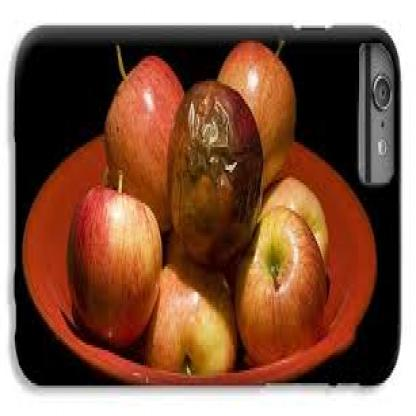apple: (63, 180, 162, 337), (95, 59, 187, 210), (232, 216, 333, 348), (150, 259, 232, 373)
damaged_apple: (171, 76, 264, 254)
